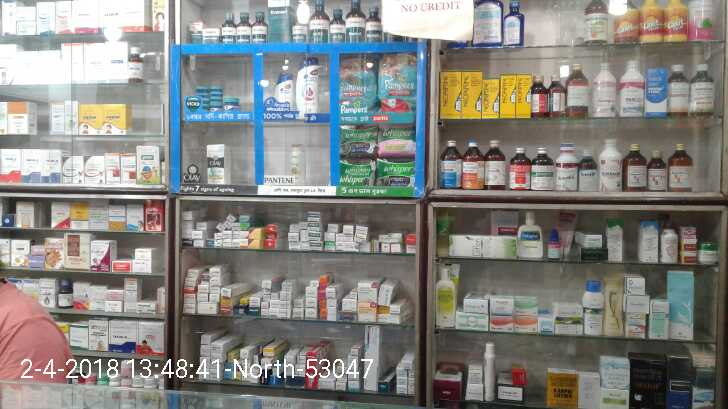vicks: (191, 83, 240, 112)
